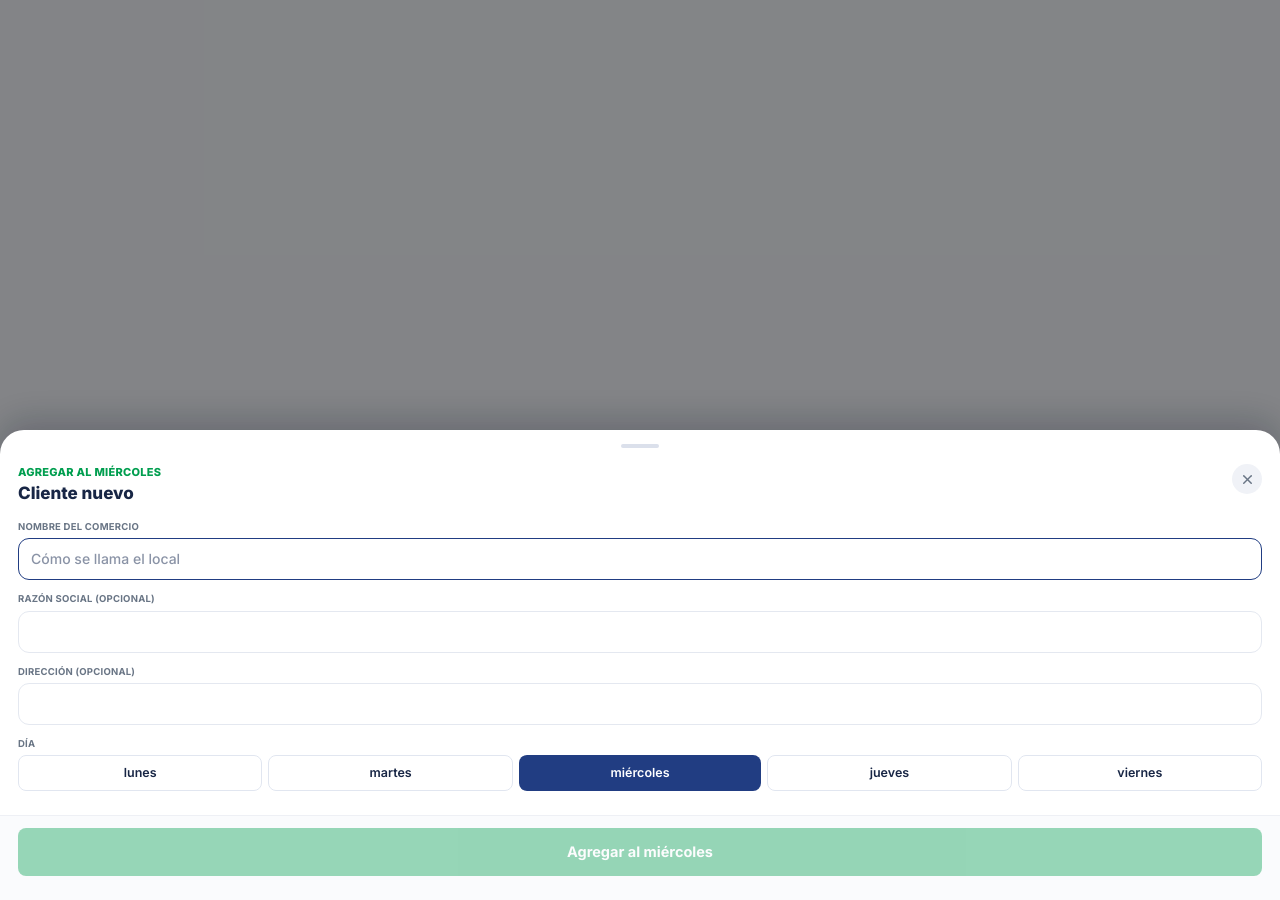
crear: cambiar el día actualiza el eyebrow, no solo el botón
The width and height of the screenshot is (1280, 900).
expect the text "Agregar al miércoles" is shown 2 times: met, box 18,464 -> 161,481; 18,828 -> 1262,876
What coordinates should you click on to do the following:
click the button "viernes"
I would click on:
 (1140, 773)
Its box is 1018,755 -> 1262,791.
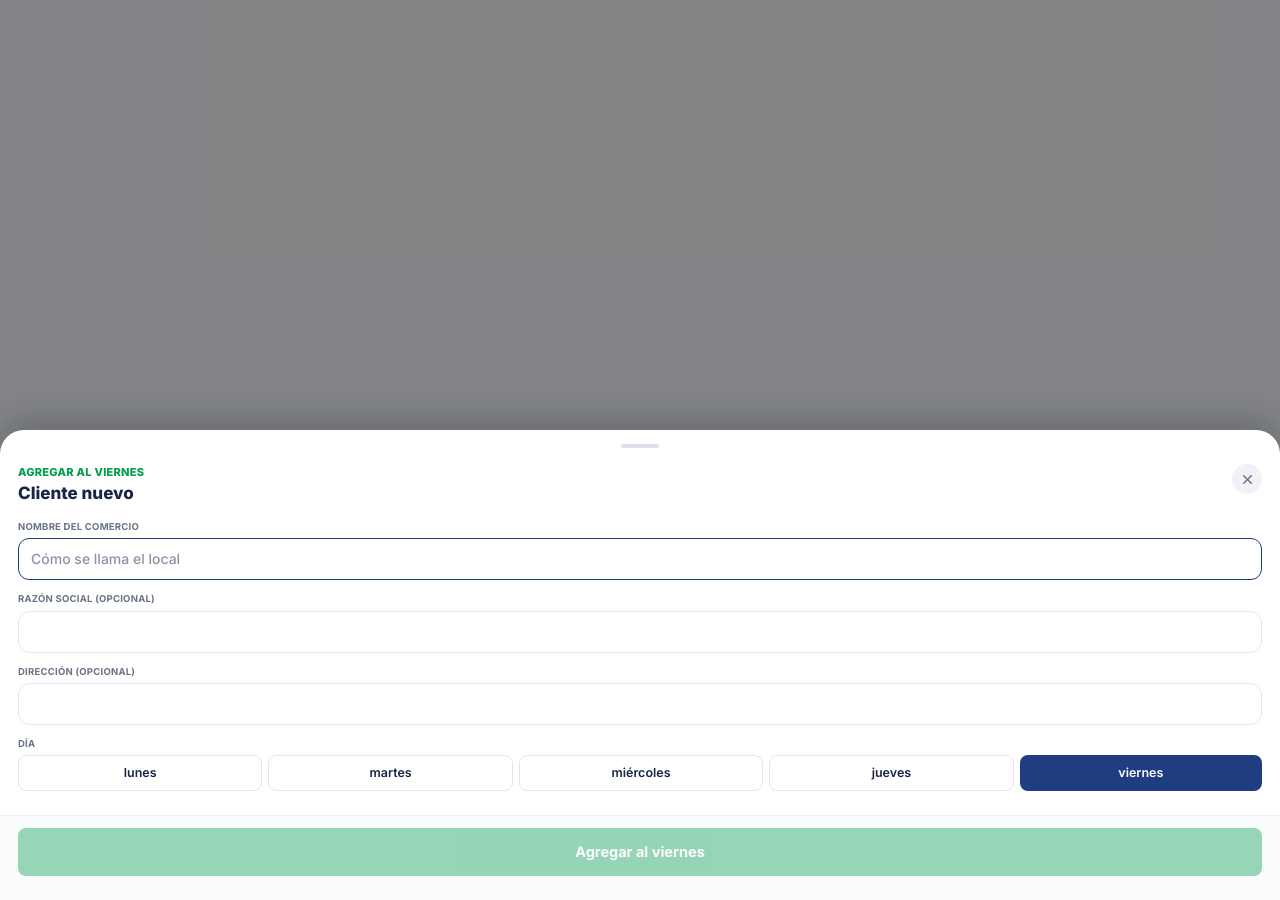
expect the text "Agregar al viernes" is shown 2 times: met, box 18,464 -> 144,481; 18,828 -> 1262,876
expect the text "Agregar al miércoles" is gone: met
